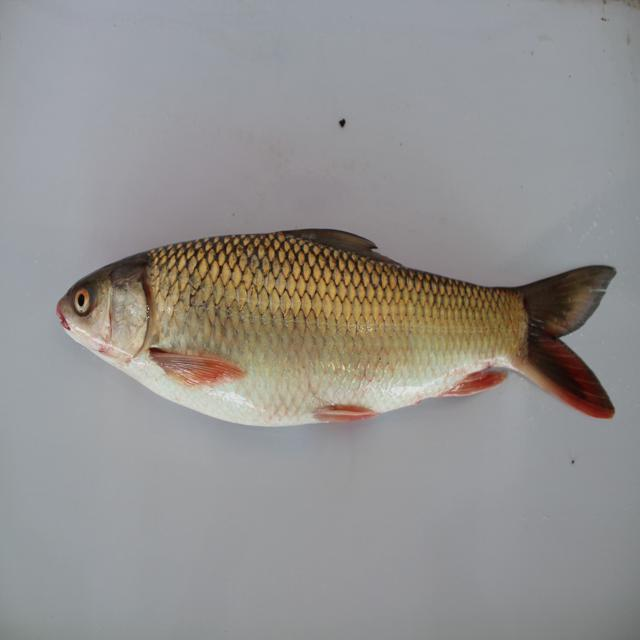Mori: (53, 206, 625, 448)
